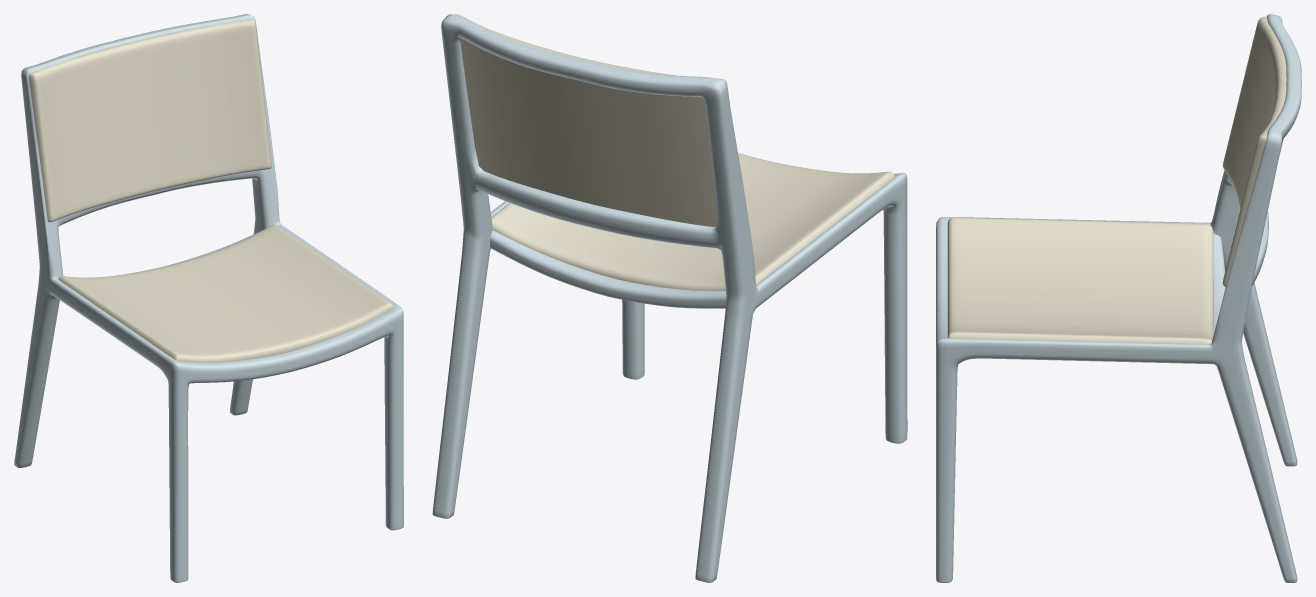
The model's file is chair_1.glb.
3 views of the same model, side by side, from view 1: azimuth 30°, elevation 25°; view 2: azimuth 150°, elevation 25°; view 3: azimuth 270°, elevation 25° (orthographic). The views are drawn at different scales.
Visible parts, largest first — view 1: Porto chair; view 2: Porto chair; view 3: Porto chair.
Part boxes in pixels (x1,y1,x2,y2): Porto chair: [14, 14, 403, 582]; Porto chair: [432, 14, 907, 582]; Porto chair: [936, 14, 1301, 582].
Size of the model in its own units: 0.37 by 0.6206 by 0.4601.
